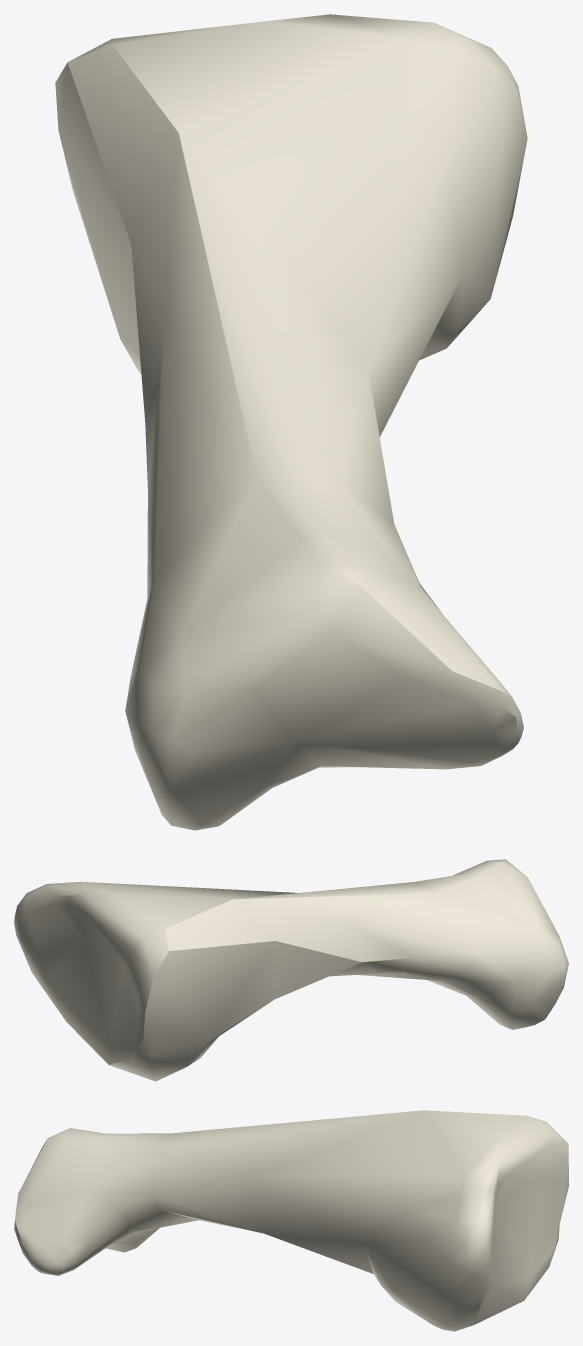
File: fma32634_fj3319.glb
3 renders of one model, top to bottom at view 1: azimuth 30°, elevation 25°; view 2: azimuth 150°, elevation 25°; view 3: azimuth 270°, elevation 25°, orthographic. The views are drawn at different scales.
Visible parts, largest first — view 1: FMA32634_FJ3319; view 2: FMA32634_FJ3319; view 3: FMA32634_FJ3319.
Part boxes in pixels (bbox=[...]): FMA32634_FJ3319: bbox=[55, 14, 527, 830]; FMA32634_FJ3319: bbox=[14, 859, 568, 1081]; FMA32634_FJ3319: bbox=[14, 1110, 568, 1331].
Bounding box in the file's own units: 0.0222 × 0.0123 × 0.0281.
